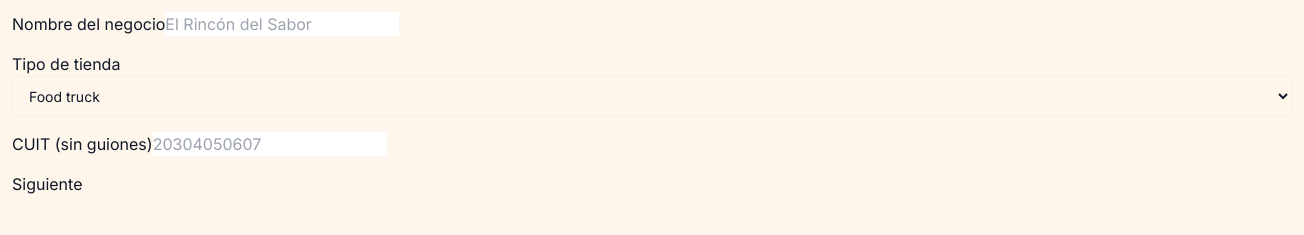
Test case: StepFiscal › shows validation error for invalid CUIT
Type "Tienda" into the field labelled "Nombre del negocio".
click(282, 24); type("Tienda")  # box [165,12,399,36]
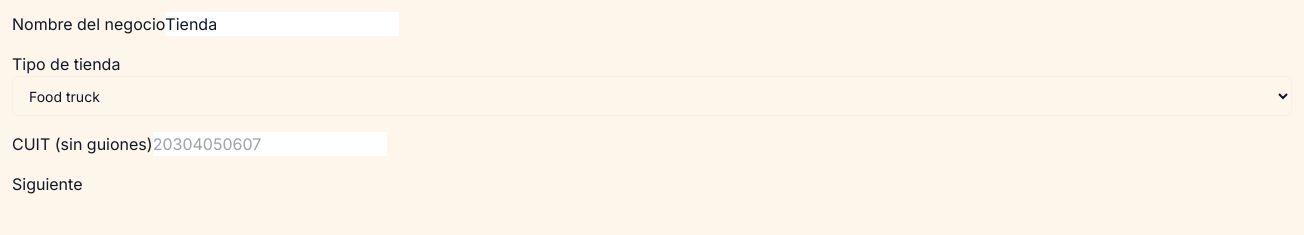
Type "123" into the field labelled "CUIT (sin guiones)".
click(270, 144); type("123")  # box [153,132,387,156]
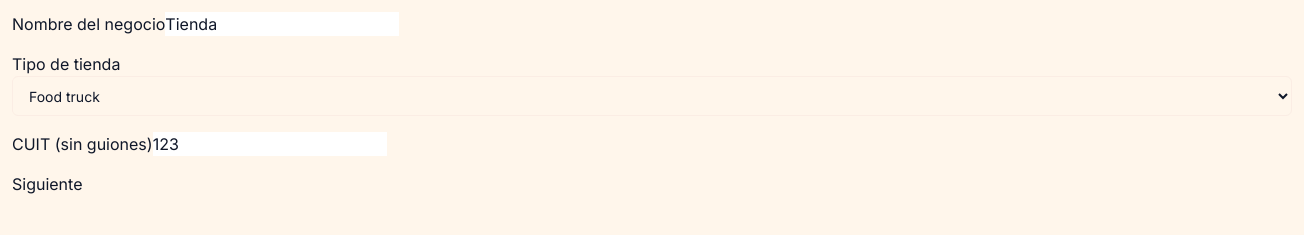
Click the button "Siguiente".
click(47, 184)  # box [12,172,82,196]
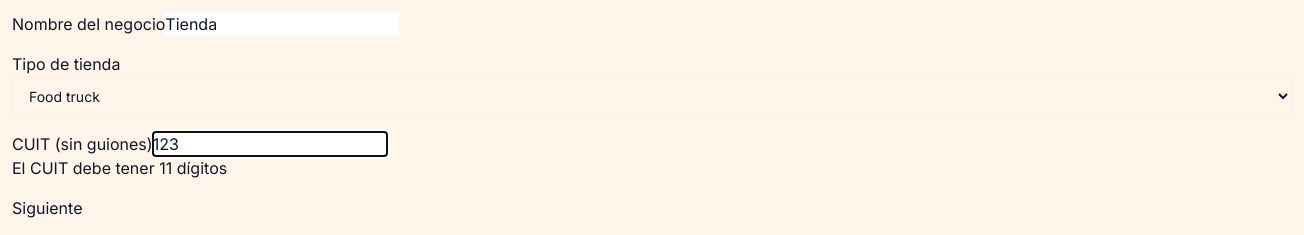
Expected: the text "El CUIT debe tener 11 dígitos" is shown, [12,158,227,178]
